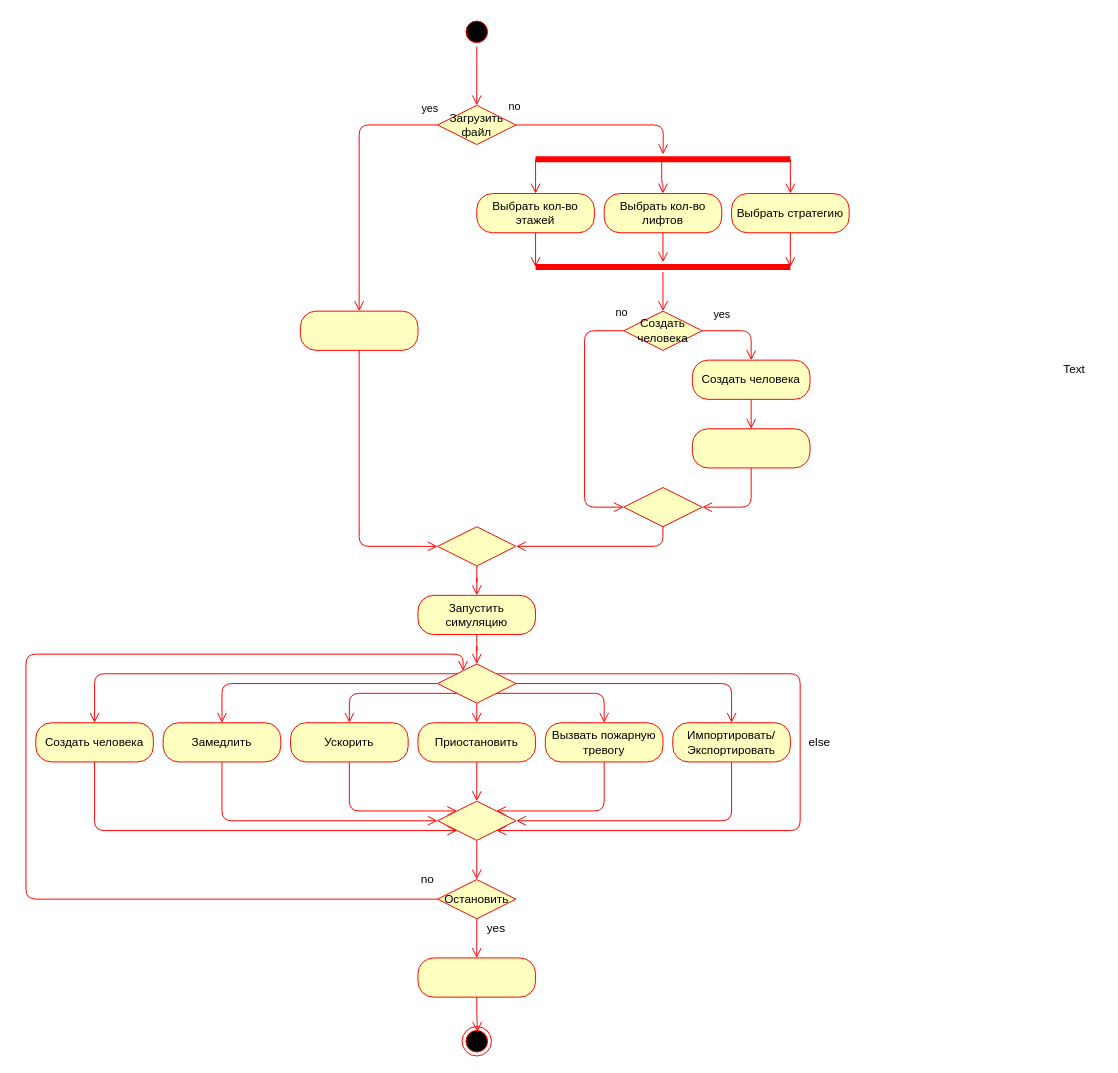
This 1118x1073 diagram has some shape labels left out. Here are the shapes that lost their labels. From the top down, the box of each, then its label:
(299, 310, 418, 350): Импортировать файл
(691, 428, 810, 468): Выбрать этажи
(417, 957, 536, 997): Остановить симуляцию
